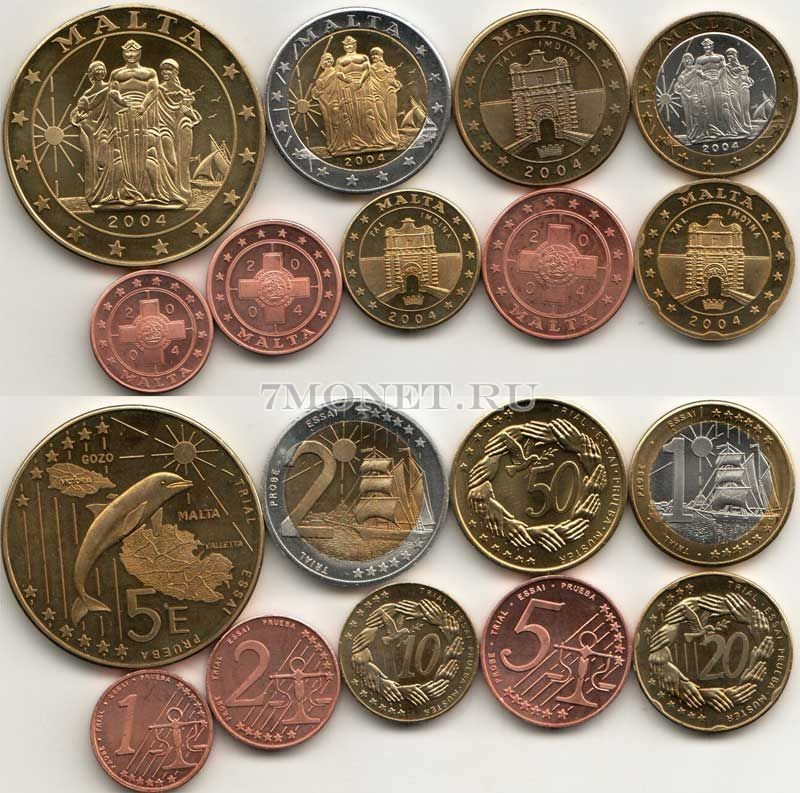coin: (1, 404, 265, 670), (12, 1, 264, 271), (261, 7, 452, 195), (261, 399, 452, 579), (452, 398, 631, 573), (453, 11, 630, 184), (632, 10, 800, 177), (630, 399, 795, 568), (632, 179, 794, 346), (633, 571, 792, 732), (483, 578, 635, 733), (485, 187, 632, 343), (342, 186, 479, 332), (338, 581, 478, 723), (204, 614, 344, 750), (207, 216, 341, 358), (88, 268, 223, 396), (91, 670, 216, 793)
